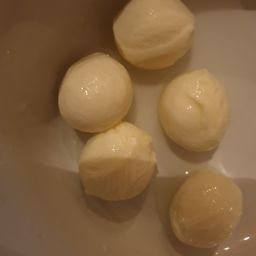Mini Mozzarella Cheese: (43, 2, 256, 256), (64, 116, 162, 222), (140, 68, 233, 152), (52, 49, 138, 137), (165, 163, 247, 247), (115, 3, 202, 72)
